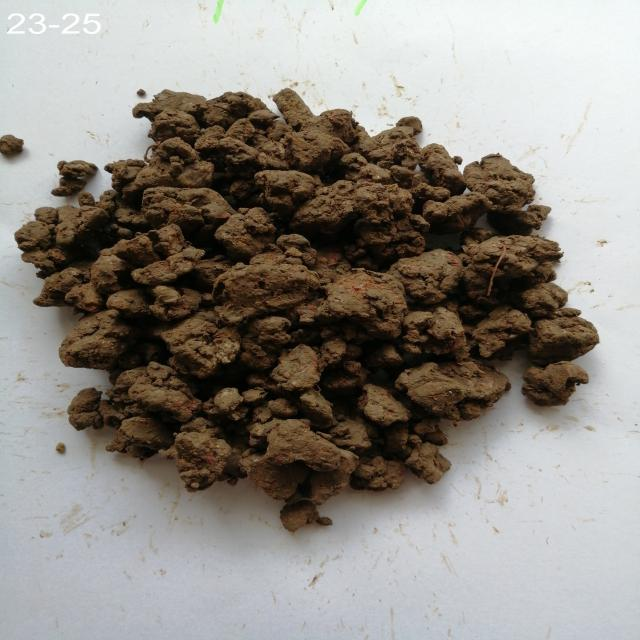soil: (137, 166, 464, 408)
